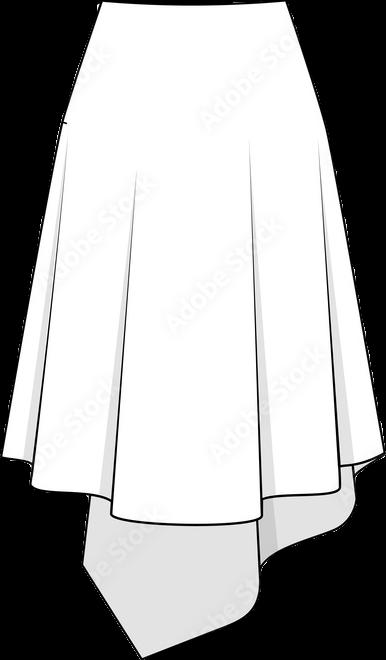Hemline: (0, 448, 385, 531)
Waistline: (100, 0, 286, 9)
